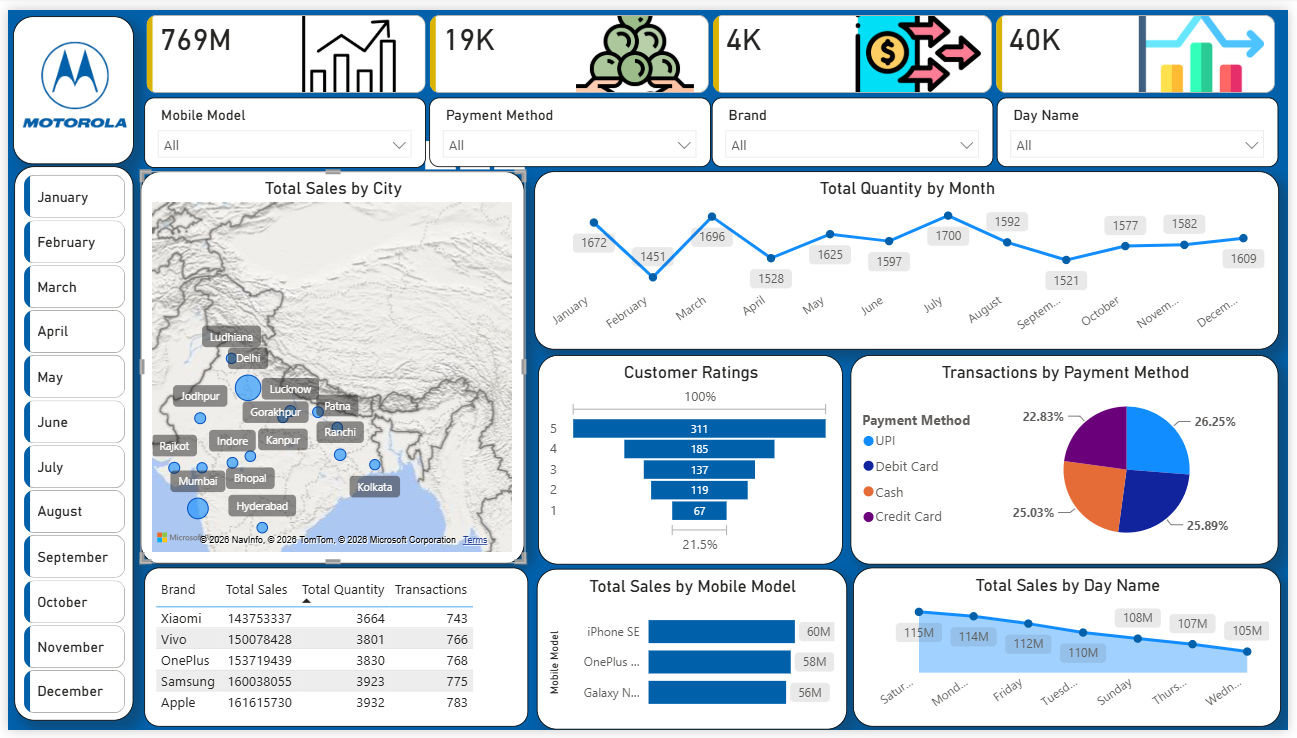

The dashboard page shown, as its layout file describes it:
{"tool":"powerbi","page":{"name":"Page 1","canvas":[1280,720],"ordinal":0},"visuals":[{"type":"shape","box":[5.5,6.9,120.8,148.2],"z":0},{"type":"image","box":[9.6,16.5,113.9,116.6],"z":1000},{"type":"shape","box":[6.9,156.4,119.4,554.4],"z":2000},{"type":"advancedSlicerVisual","fields":{"Values":["Sales_Data.Date.Variation.Date Hierarchy.Month"]},"box":[11,160.5,111.1,548.9],"z":3000},{"type":"cardVisual","fields":{"Data":["Sales_Data.Total Sales","Sales_Data.Total Quantity","Sales_Data.Transactions","Sales_Data.Average"]},"box":[134,5.6,1140.1,83.7],"z":4000},{"type":"map","fields":{"Category":["Sales_Data.City"],"Size":["Sales_Data.Total Sales"]},"box":[132.9,160.8,384.1,393.1],"z":5000},{"type":"lineChart","fields":{"Y":["Sales_Data.Total Quantity"],"Category":["Sales_Data.Date.Variation.Date Hierarchy.Month","Sales_Data.Date.Variation.Date Hierarchy.Day"]},"box":[525.9,160.8,744.8,178.7],"z":6000},{"type":"clusteredBarChart","fields":{"Category":["Sales_Data.Mobile Model"],"Y":["Sales_Data.Total Sales"]},"box":[528.3,558.5,310.1,160.5],"z":7000},{"type":"pieChart","fields":{"Category":["Sales_Data.Payment Method"],"Y":["Sales_Data.Transactions"]},"box":[842.5,344.4,428.1,209.9],"z":8000},{"type":"funnel","title":"Customer Ratings","fields":{"Category":["Sales_Data.Customer Ratings"],"Y":["CountNonNull(Sales_Data.Customer Ratings)"]},"box":[529.7,344.4,304.6,209.9],"z":9000},{"type":"areaChart","fields":{"Category":["Sales_Data.Day Name"],"Y":["Sales_Data.Total Sales"]},"box":[845.3,557.1,428.1,159.2],"z":10000},{"type":"tableEx","fields":{"Values":["Sales_Data.Brand","Sales_Data.Total Sales","Sales_Data.Total Quantity","Sales_Data.Transactions"]},"box":[135.8,557.1,384.2,159.2],"z":11000},{"type":"slicer","fields":{"Values":["Sales_Data.Mobile Model"]},"box":[136.2,87.1,281.4,70.3],"z":12000},{"type":"slicer","fields":{"Values":["Sales_Data.Payment Method"]},"box":[421,87.1,281.4,69.2],"z":13000},{"type":"slicer","fields":{"Values":["Sales_Data.Brand"]},"box":[703.5,87.1,281.4,69.2],"z":14000},{"type":"slicer","fields":{"Values":["Sales_Data.Day Name"]},"box":[988.2,87.1,281.4,69.2],"z":15000}]}

Visuals, with their boxes in screenshot pixels (x1, y1, x2, y2), scaled from the page's 1280x720 canvas onto the 1297x738 screenshot:
shape: 6,7,128,159
image: 10,17,125,136
shape: 7,160,128,729
advancedSlicerVisual - Sales_Data.Date.Variation.Date Hierarchy.Month: 11,165,124,727
cardVisual - Sales_Data.Total Sales x Sales_Data.Total Quantity: 136,6,1291,92
map - Sales_Data.City x Sales_Data.Total Sales: 135,165,524,568
lineChart - Sales_Data.Total Quantity x Sales_Data.Date.Variation.Date Hierarchy.Month: 533,165,1288,348
clusteredBarChart - Sales_Data.Mobile Model x Sales_Data.Total Sales: 535,572,850,737
pieChart - Sales_Data.Payment Method x Sales_Data.Transactions: 854,353,1287,568
"Customer Ratings" funnel: 537,353,845,568
areaChart - Sales_Data.Day Name x Sales_Data.Total Sales: 857,571,1290,734
tableEx - Sales_Data.Brand x Sales_Data.Total Sales: 138,571,527,734
slicer - Sales_Data.Mobile Model: 138,89,423,161
slicer - Sales_Data.Payment Method: 427,89,712,160
slicer - Sales_Data.Brand: 713,89,998,160
slicer - Sales_Data.Day Name: 1001,89,1286,160
